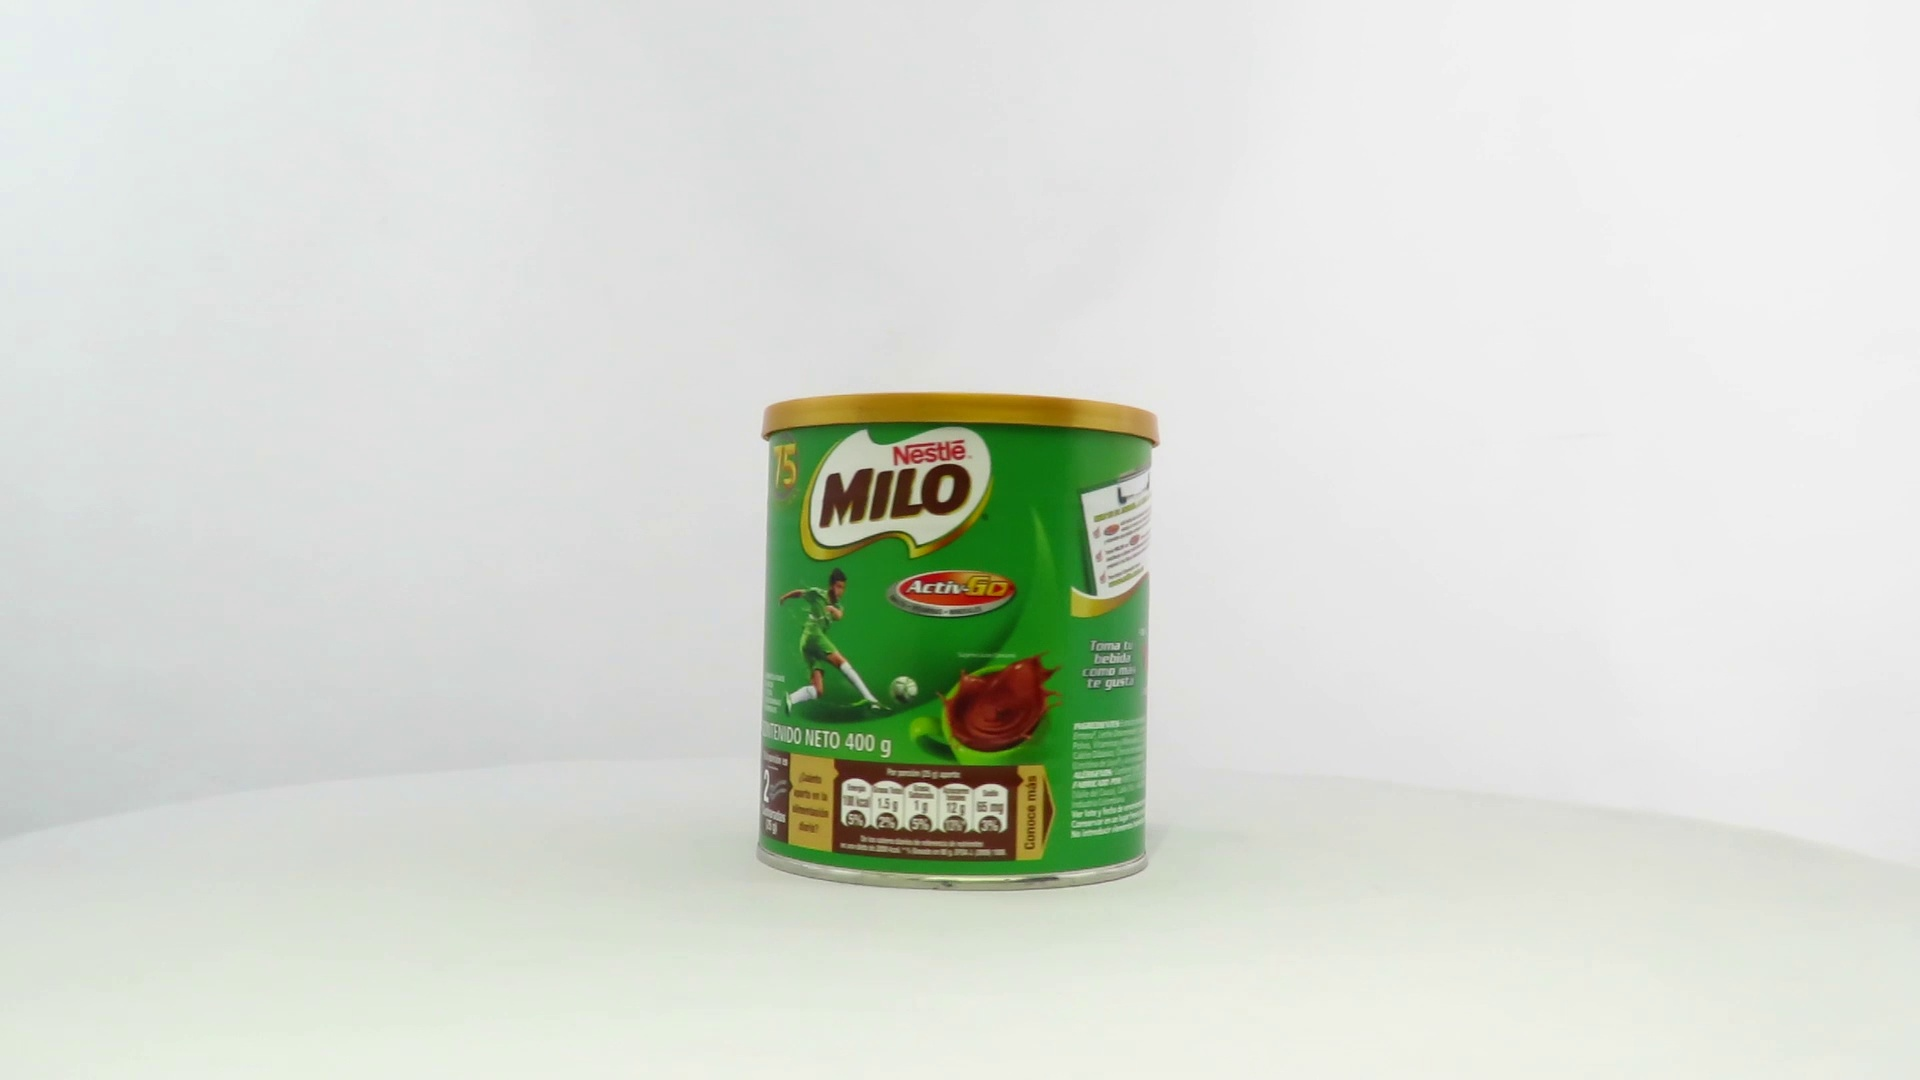COL0170203LAT40000: (752, 386, 1166, 898)
